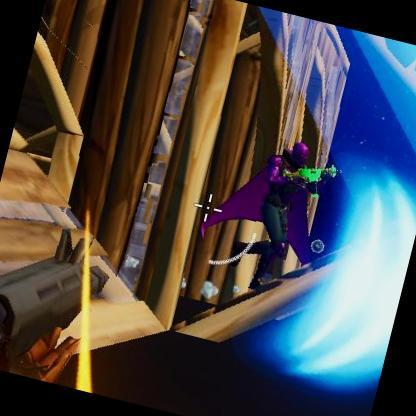person: (245, 142, 330, 291)
